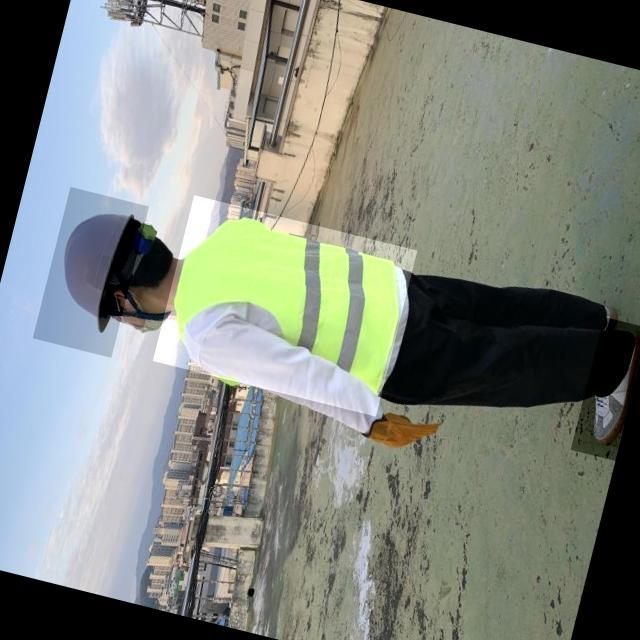Gloves: (359, 399, 443, 461)
Helmet: (33, 187, 150, 358)
Person: (24, 173, 640, 488)
Safety Boot: (570, 316, 640, 460)
Safety Vest: (152, 195, 417, 417)
